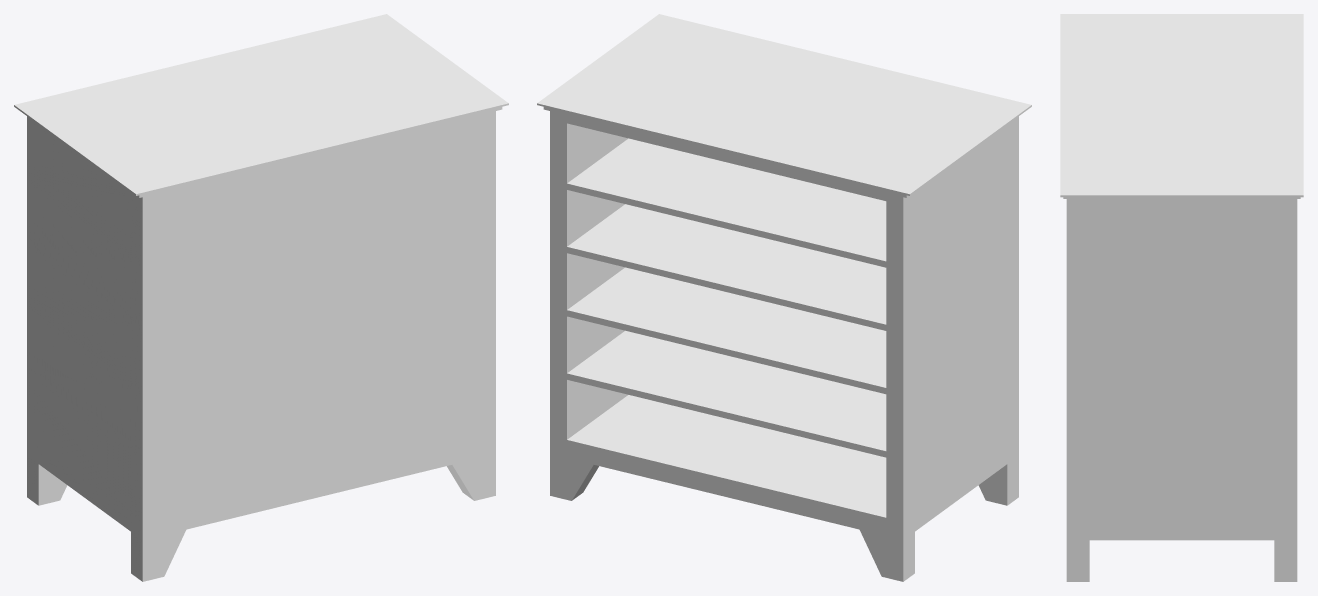
The model's file is Mueble5.fbx.
The picture shows the model from 3 angles, left to right: view 1: azimuth 30°, elevation 25°; view 2: azimuth 150°, elevation 25°; view 3: azimuth 270°, elevation 25°; orthographic projection.
Visible parts, largest first — view 1: pCube4; view 2: pCube4; view 3: pCube4.
Part boxes in pixels (x1=…): pCube4: x1=14, y1=14, x2=508, y2=581; pCube4: x1=537, y1=14, x2=1031, y2=581; pCube4: x1=1060, y1=14, x2=1303, y2=581.
Size of the model in its own units: 9.22 by 9.27 by 5.23.
